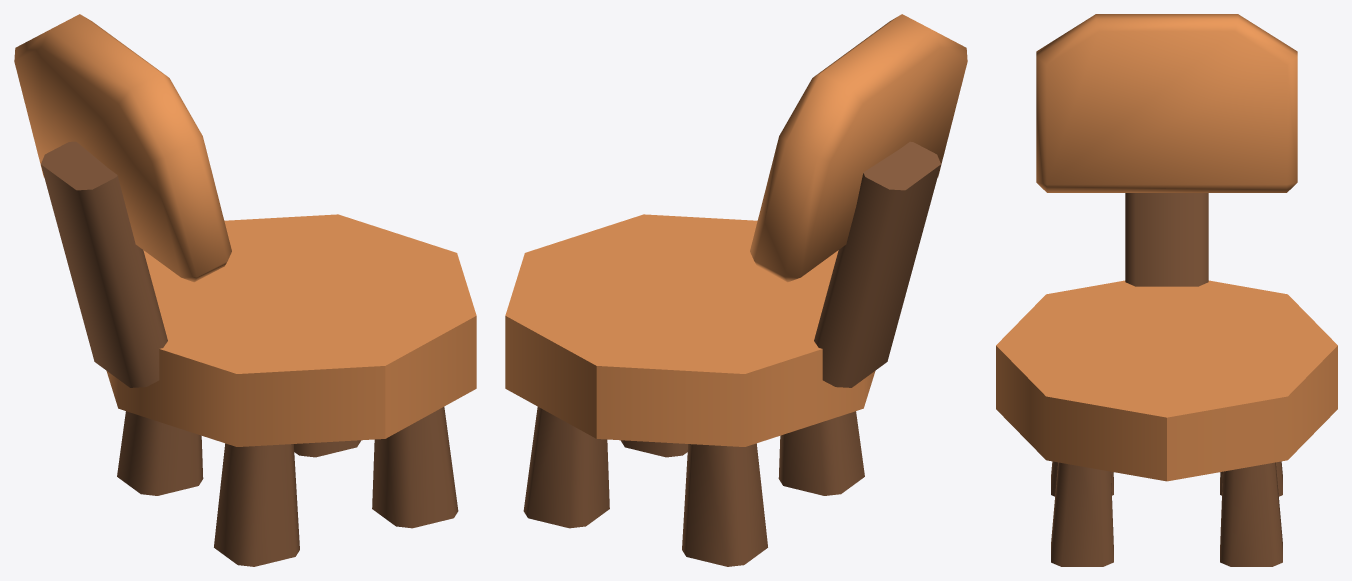
Rendered from Chair-1.fbx.
The picture shows the model from 3 angles, left to right: view 1: azimuth 30°, elevation 25°; view 2: azimuth 150°, elevation 25°; view 3: azimuth 270°, elevation 25°; orthographic projection. The views are drawn at different scales.
Parts seen in each view (by area): view 1: Cylinder.201, Cube.723, Cube.702, Cube.744; view 2: Cylinder.201, Cube.723, Cube.702, Cube.744; view 3: Cylinder.201, Cube.723, Cube.702, Cube.744.
Boxes of the visible parts, bbox=[...] form: Cylinder.201: bbox=[106, 214, 476, 446]; Cube.723: bbox=[14, 14, 231, 282]; Cube.702: bbox=[117, 407, 458, 566]; Cube.744: bbox=[41, 141, 167, 387]; Cylinder.201: bbox=[505, 214, 875, 446]; Cube.723: bbox=[750, 14, 967, 282]; Cube.702: bbox=[523, 407, 864, 566]; Cube.744: bbox=[814, 141, 940, 387]; Cylinder.201: bbox=[996, 280, 1337, 481]; Cube.723: bbox=[1036, 14, 1297, 192]; Cube.702: bbox=[1051, 461, 1282, 566]; Cube.744: bbox=[1125, 193, 1208, 286].
Bounding box in the file's own units: 21 × 24.73 × 17.86.
